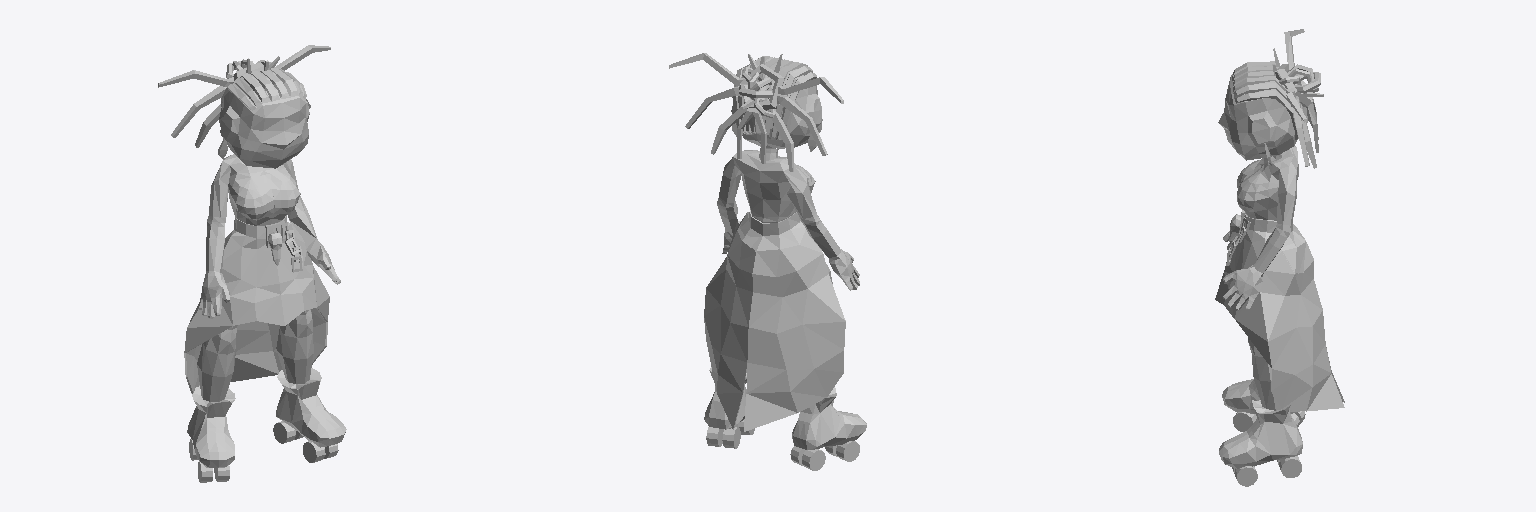
File: bruja_000002.obj
3 renders of one model, left to right at view 1: azimuth 30°, elevation 25°; view 2: azimuth 150°, elevation 25°; view 3: azimuth 270°, elevation 25°, orthographic.
Parts seen in each view (by area): view 1: Bruja_Plane.001; view 2: Bruja_Plane.001; view 3: Bruja_Plane.001.
Part boxes in pixels (x1,y1,x2,y2): Bruja_Plane.001: (158,45,346,482); Bruja_Plane.001: (669,53,866,470); Bruja_Plane.001: (1215,29,1344,486).
Bounding box in the file's own units: 7.47 × 16.62 × 4.86.